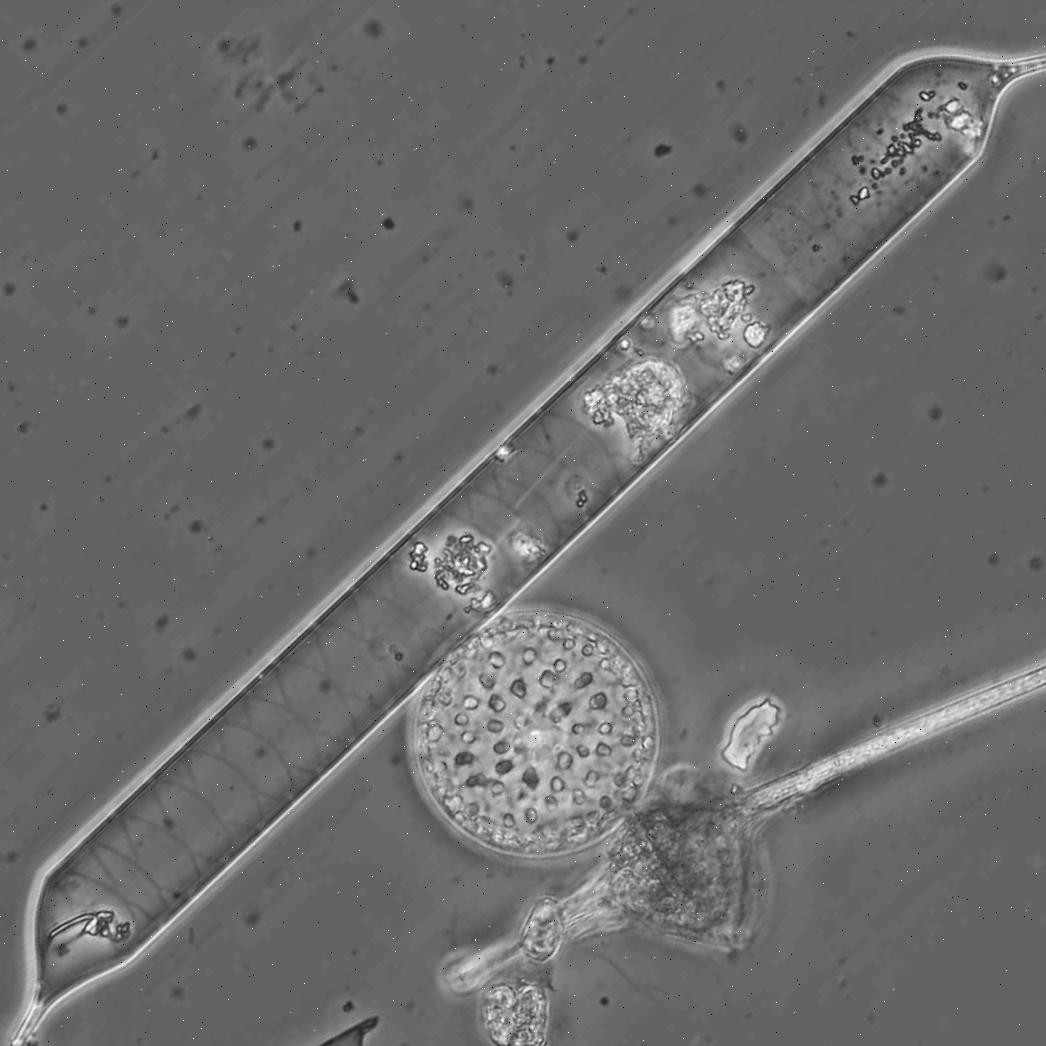proboscia_alata: (8, 52, 1046, 1046)
